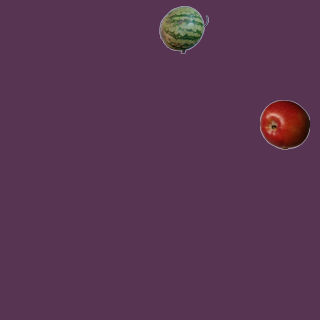Apple Braeburn: (259, 99, 309, 149)
Watermelon: (158, 4, 208, 54)
